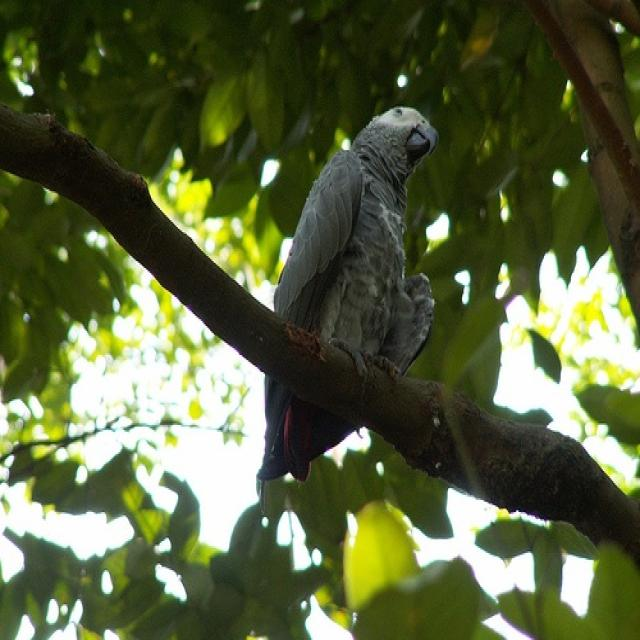bird: (257, 106, 438, 486)
